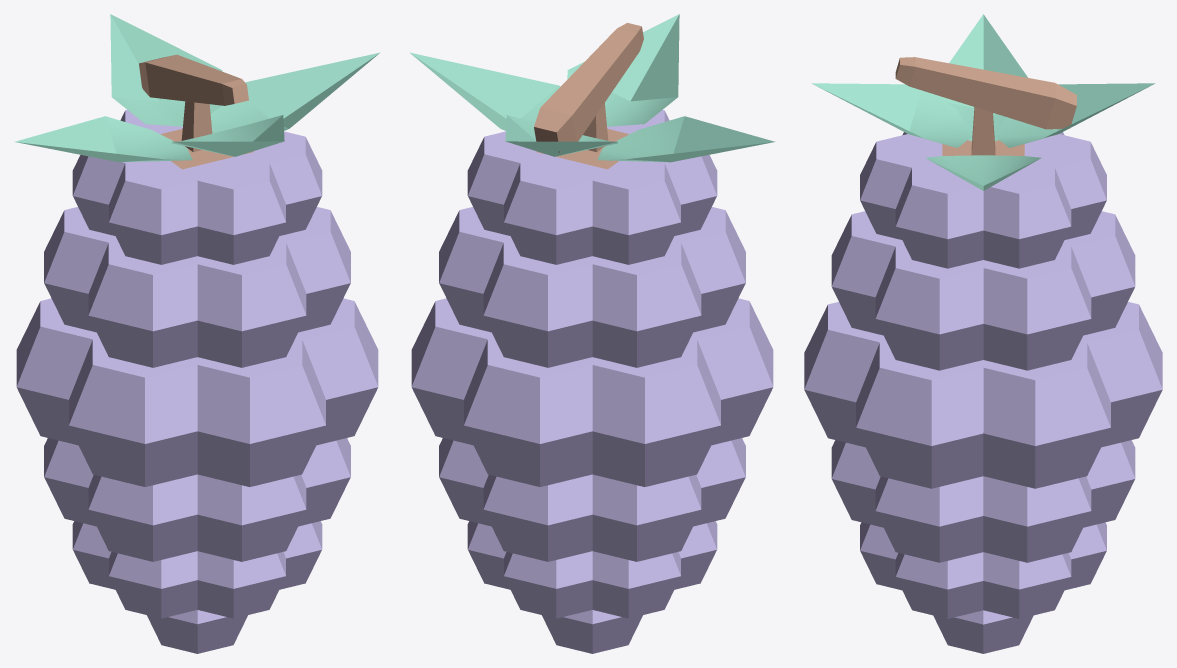
File: grapes.fbx
The picture shows the model from 3 angles, left to right: view 1: azimuth 30°, elevation 25°; view 2: azimuth 150°, elevation 25°; view 3: azimuth 270°, elevation 25°; orthographic projection.
Parts seen in each view (by area): view 1: grapes; view 2: grapes; view 3: grapes.
Boxes of the visible parts, left/top/right/bottom form: grapes: left=14, top=14, right=379, bottom=653; grapes: left=410, top=14, right=775, bottom=653; grapes: left=804, top=14, right=1162, bottom=653.
Bounding box in the file's own units: 27.9 × 42.26 × 23.86.
